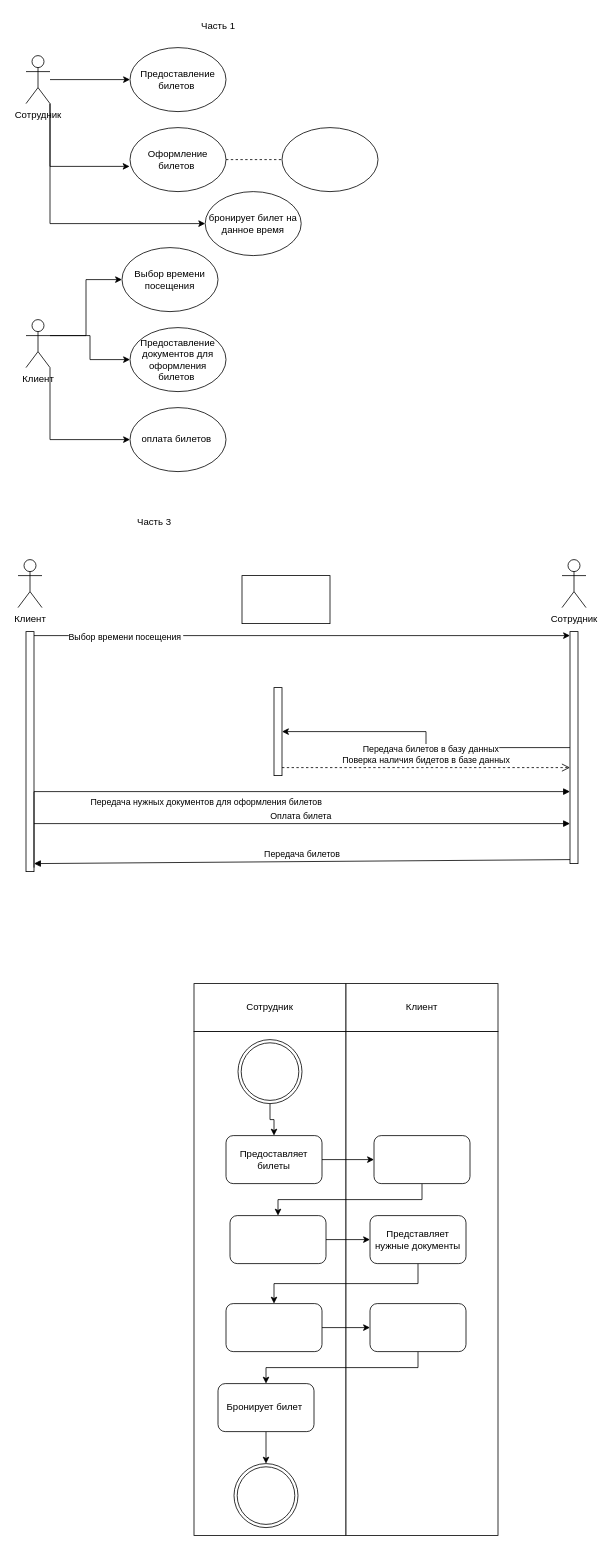
Some shapes in this 610 by 1550 pixel diagram are drawn without their labels. The shapes that lost their labels are listed below. From the top down, each one's centre as x and y in pixels, then its label:
the point at 329,159: Проверка в базе данных о наличии билетов на данное время
the point at 285,599: База данных
the point at 421,1159: Выбирает билет
the point at 277,1239: Проверяет наличие билета
the point at 273,1327: Оформляет билет
the point at 417,1327: Оплачивает билет
